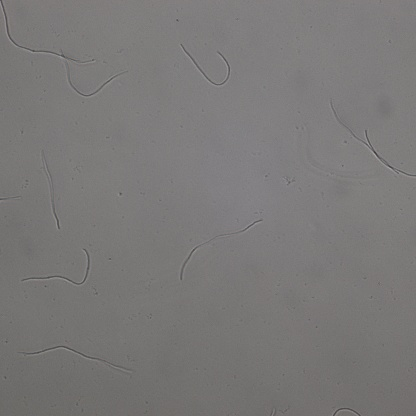Sensitive: (330, 100, 416, 178), (1, 1, 94, 64), (179, 218, 263, 280), (18, 345, 132, 375), (60, 51, 128, 97), (20, 249, 92, 286), (182, 43, 231, 86), (41, 149, 60, 229), (332, 407, 362, 416)
